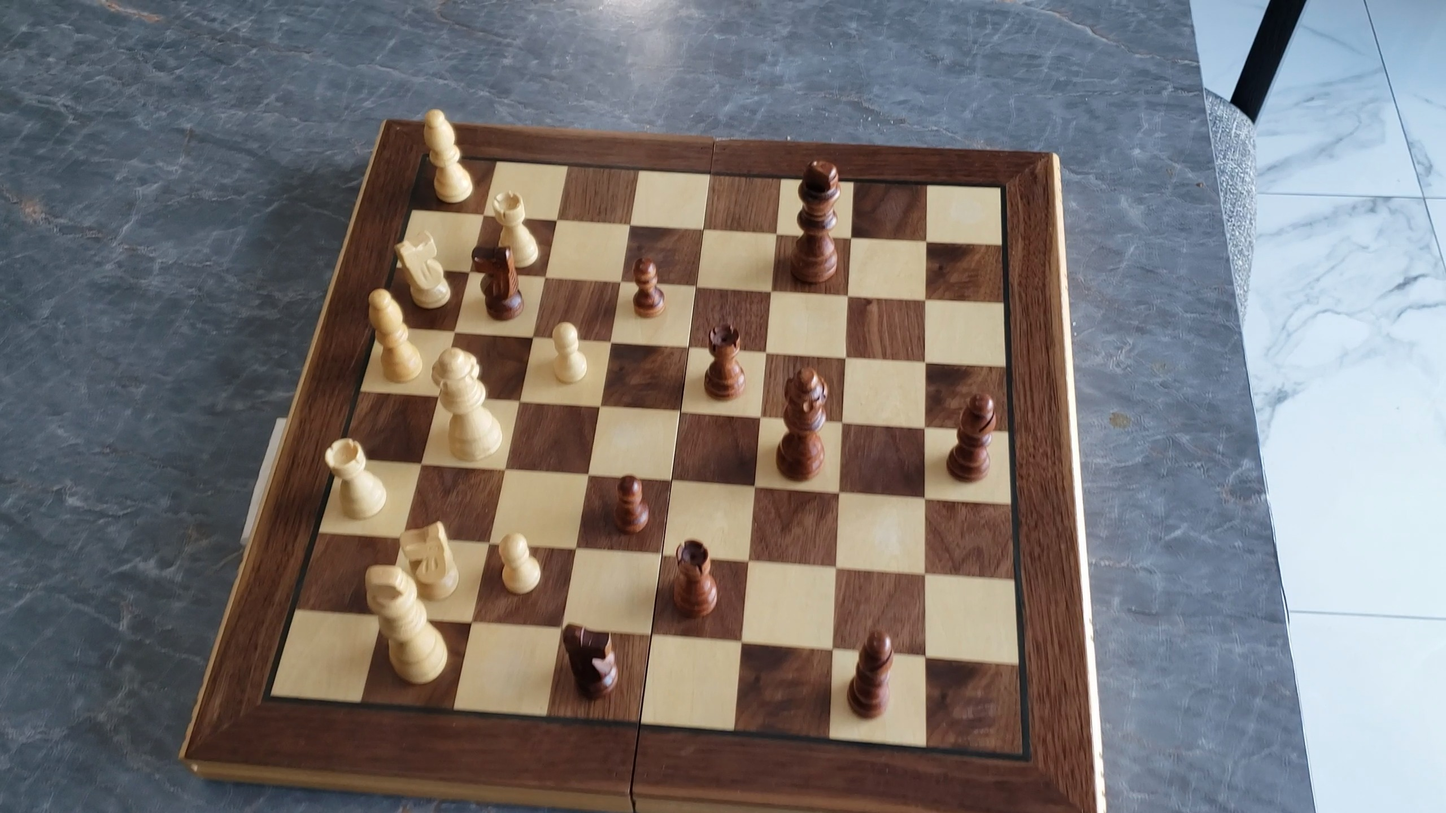black-bishop: (845, 624, 898, 722), (944, 390, 999, 484)
black-king: (785, 156, 846, 294)
black-knight: (559, 620, 623, 702), (472, 241, 526, 321)
black-pawn: (611, 470, 652, 536), (629, 253, 667, 320)
black-queen: (775, 365, 831, 483)
black-rook: (665, 537, 721, 620), (702, 320, 748, 402)
white-bishop: (362, 285, 427, 386), (417, 102, 477, 207)
white-king: (355, 561, 450, 687)
white-knight: (393, 518, 466, 603), (394, 225, 455, 313)
white-pawn: (493, 528, 546, 598), (546, 317, 594, 388)
white-queen: (426, 346, 511, 466)
white-rook: (322, 435, 391, 523), (487, 187, 543, 272)
